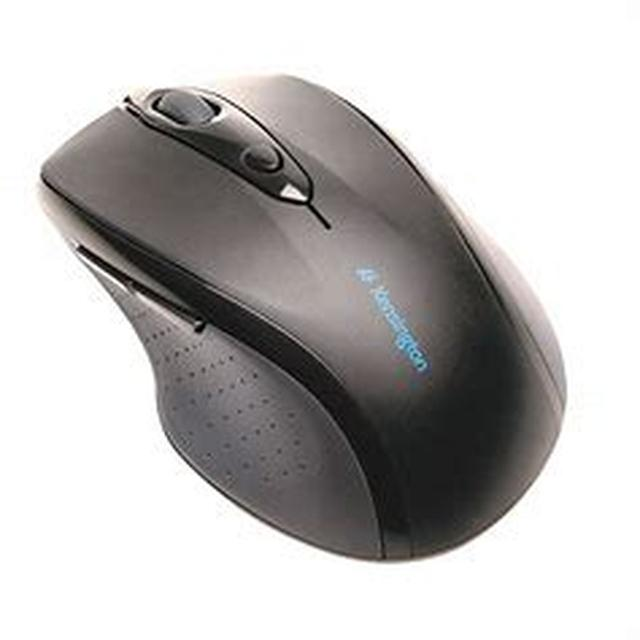mouse: (60, 41, 556, 558)
